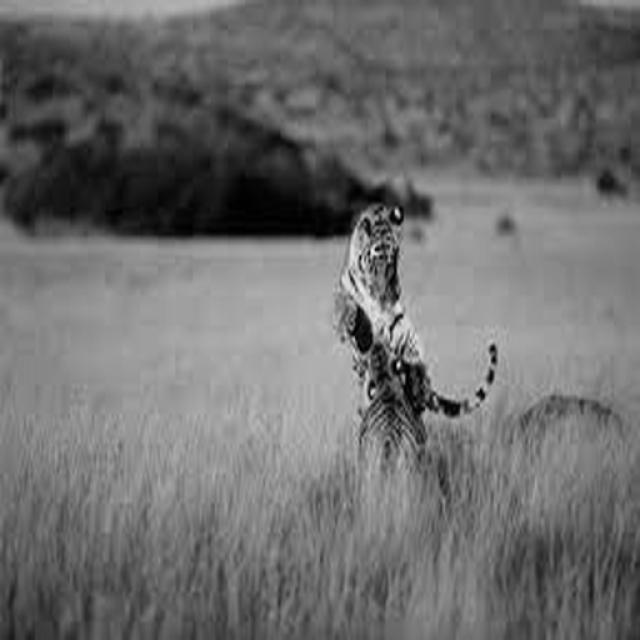Tiger: (330, 202, 499, 498)
